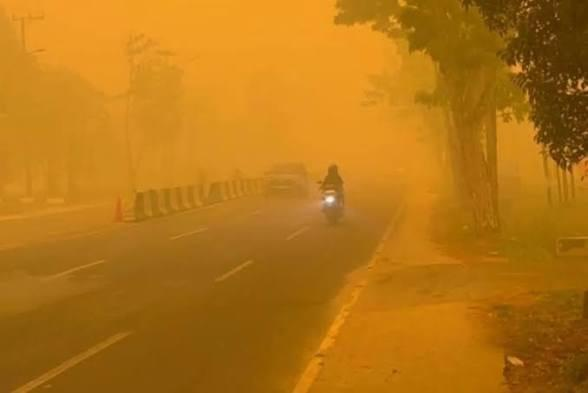Deteksi-Objek-Citra-Berasap: (0, 0, 588, 393)
Kendaraan: (261, 161, 312, 198), (317, 184, 346, 225)
Manusia: (318, 163, 345, 203)
Vegetasi: (333, 0, 588, 236), (115, 31, 181, 185)
